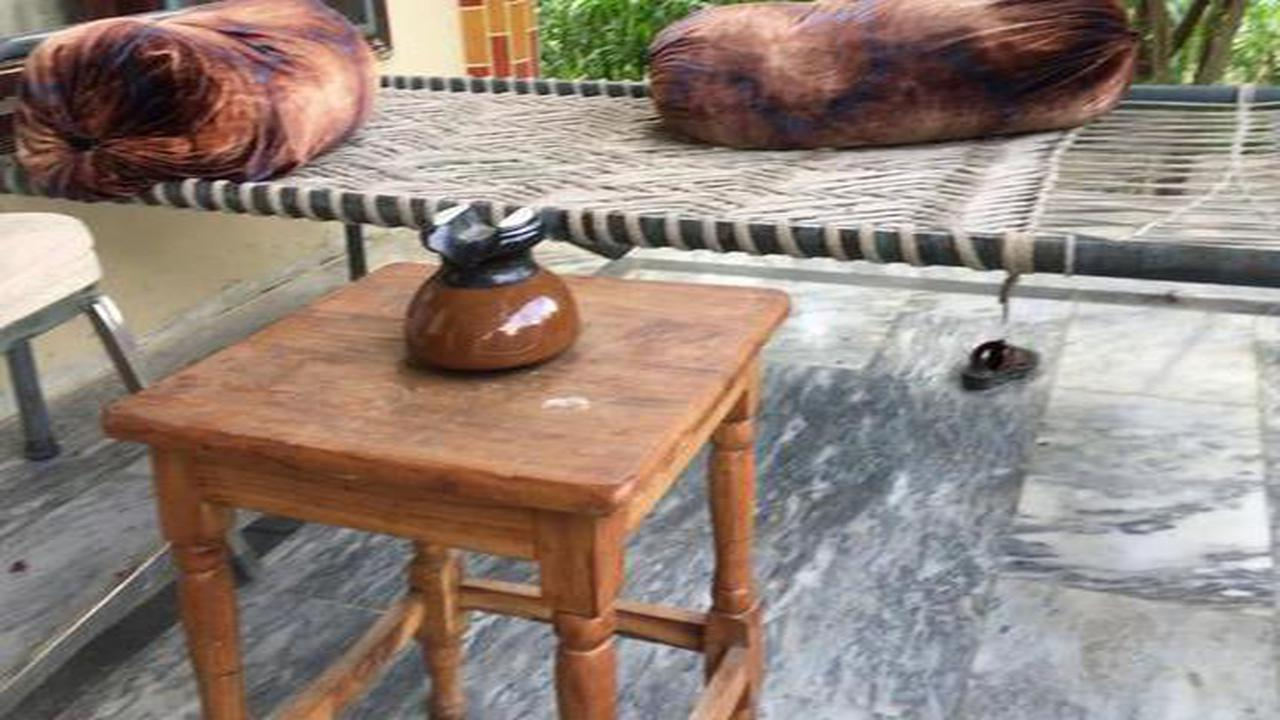insulator_pin: (391, 193, 594, 378)
